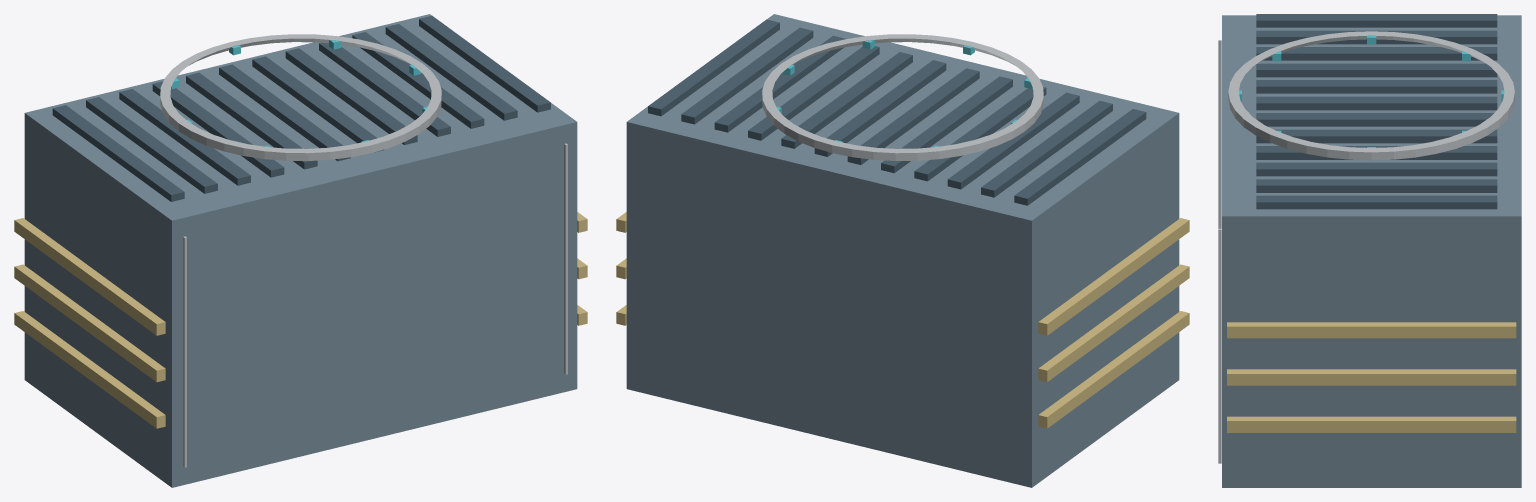
The model's file is 04_L83_SpacecraftServiceBusStructure.glb.
3 views of the same model, side by side, from view 1: azimuth 30°, elevation 25°; view 2: azimuth 150°, elevation 25°; view 3: azimuth 270°, elevation 25° (orthographic).
Visible parts, largest first — view 1: SpacecraftServiceBusStructure_Node_0000, SpacecraftServiceBusStructure_Node_0027, SpacecraftServiceBusStructure_Node_0008, SpacecraftServiceBusStructure_Node_0007, SpacecraftServiceBusStructure_Node_0009, SpacecraftServiceBusStructure_Node_0023, SpacecraftServiceBusStructure_Node_0013, SpacecraftServiceBusStructure_Node_0024, SpacecraftServiceBusStructure_Node_0014, SpacecraftServiceBusStructure_Node_0020, SpacecraftServiceBusStructure_Node_0019, SpacecraftServiceBusStructure_Node_0018 (+7 smaller); view 2: SpacecraftServiceBusStructure_Node_0000, SpacecraftServiceBusStructure_Node_0027, SpacecraftServiceBusStructure_Node_0008, SpacecraftServiceBusStructure_Node_0007, SpacecraftServiceBusStructure_Node_0009, SpacecraftServiceBusStructure_Node_0023, SpacecraftServiceBusStructure_Node_0013, SpacecraftServiceBusStructure_Node_0014, SpacecraftServiceBusStructure_Node_0024, SpacecraftServiceBusStructure_Node_0020, SpacecraftServiceBusStructure_Node_0019, SpacecraftServiceBusStructure_Node_0021 (+5 smaller); view 3: SpacecraftServiceBusStructure_Node_0000, SpacecraftServiceBusStructure_Node_0027, SpacecraftServiceBusStructure_Node_0011, SpacecraftServiceBusStructure_Node_0010, SpacecraftServiceBusStructure_Node_0012, SpacecraftServiceBusStructure_Node_0018, SpacecraftServiceBusStructure_Node_0022, SpacecraftServiceBusStructure_Node_0024, SpacecraftServiceBusStructure_Node_0016, SpacecraftServiceBusStructure_Node_0013, SpacecraftServiceBusStructure_Node_0017, SpacecraftServiceBusStructure_Node_0023 (+7 smaller).
Part boxes in pixels (bbox=[...]): SpacecraftServiceBusStructure_Node_0000: bbox=[24, 14, 577, 487]; SpacecraftServiceBusStructure_Node_0027: bbox=[160, 34, 441, 160]; SpacecraftServiceBusStructure_Node_0008: bbox=[14, 264, 165, 382]; SpacecraftServiceBusStructure_Node_0007: bbox=[14, 311, 165, 428]; SpacecraftServiceBusStructure_Node_0009: bbox=[14, 218, 165, 335]; SpacecraftServiceBusStructure_Node_0023: bbox=[385, 24, 517, 120]; SpacecraftServiceBusStructure_Node_0013: bbox=[52, 105, 184, 201]; SpacecraftServiceBusStructure_Node_0024: bbox=[419, 15, 550, 112]; SpacecraftServiceBusStructure_Node_0014: bbox=[86, 97, 217, 193]; SpacecraftServiceBusStructure_Node_0020: bbox=[285, 48, 417, 144]; SpacecraftServiceBusStructure_Node_0019: bbox=[252, 56, 383, 152]; SpacecraftServiceBusStructure_Node_0018: bbox=[219, 64, 350, 161]; SpacecraftServiceBusStructure_Node_0000: bbox=[626, 14, 1179, 487]; SpacecraftServiceBusStructure_Node_0027: bbox=[762, 34, 1043, 160]; SpacecraftServiceBusStructure_Node_0008: bbox=[1038, 264, 1189, 382]; SpacecraftServiceBusStructure_Node_0007: bbox=[1038, 311, 1189, 428]; SpacecraftServiceBusStructure_Node_0009: bbox=[1038, 218, 1189, 335]; SpacecraftServiceBusStructure_Node_0023: bbox=[681, 27, 813, 124]; SpacecraftServiceBusStructure_Node_0013: bbox=[1014, 109, 1146, 205]; SpacecraftServiceBusStructure_Node_0014: bbox=[981, 100, 1112, 197]; SpacecraftServiceBusStructure_Node_0024: bbox=[648, 19, 779, 116]; SpacecraftServiceBusStructure_Node_0020: bbox=[781, 52, 912, 148]; SpacecraftServiceBusStructure_Node_0019: bbox=[814, 60, 946, 156]; SpacecraftServiceBusStructure_Node_0021: bbox=[748, 46, 879, 140]; SpacecraftServiceBusStructure_Node_0000: bbox=[1222, 15, 1521, 487]; SpacecraftServiceBusStructure_Node_0027: bbox=[1228, 31, 1514, 160]; SpacecraftServiceBusStructure_Node_0011: bbox=[1227, 369, 1516, 385]; SpacecraftServiceBusStructure_Node_0010: bbox=[1227, 416, 1516, 432]; SpacecraftServiceBusStructure_Node_0012: bbox=[1227, 322, 1516, 338]; SpacecraftServiceBusStructure_Node_0018: bbox=[1256, 96, 1497, 110]; SpacecraftServiceBusStructure_Node_0022: bbox=[1256, 162, 1497, 176]; SpacecraftServiceBusStructure_Node_0024: bbox=[1256, 195, 1497, 209]; SpacecraftServiceBusStructure_Node_0016: bbox=[1256, 63, 1497, 77]; SpacecraftServiceBusStructure_Node_0013: bbox=[1256, 14, 1497, 27]; SpacecraftServiceBusStructure_Node_0017: bbox=[1256, 80, 1497, 93]; SpacecraftServiceBusStructure_Node_0023: bbox=[1256, 179, 1497, 192].
Bounding box in the file's own units: 3.88 × 2.5 × 2.33.
